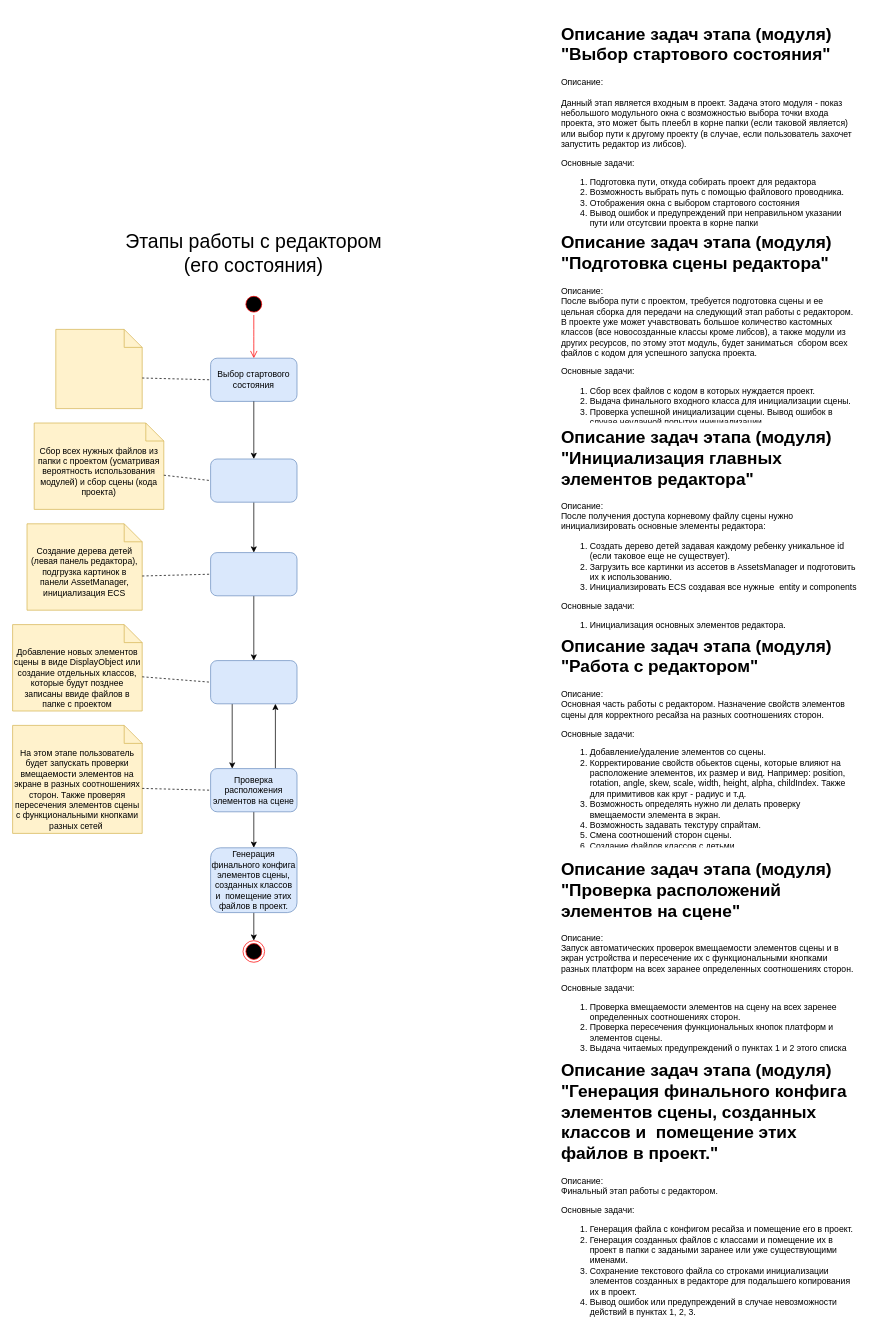
Image size: 873x1335. Some labels were removed from this diagram. Here are the shapes that lost their labels. From the top down, the box of each, then its label:
(55, 329, 142, 409): Указание пути к проекту или выбор проекта в корне папки
(210, 458, 297, 502): Подготовка сцены для редактора
(210, 552, 297, 596): Инициализация главных элементов редактора
(210, 660, 297, 704): Работа с редактором
